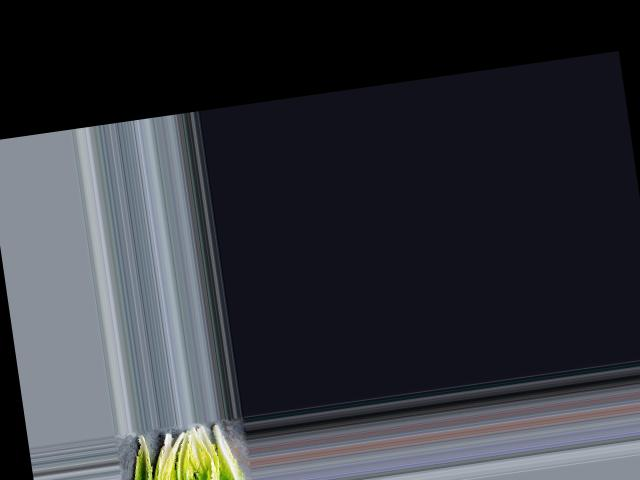lettuce: (123, 431, 159, 480)
